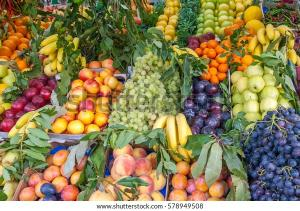apple: (248, 108, 300, 200), (228, 64, 298, 126), (1, 74, 56, 132), (195, 2, 248, 40), (151, 1, 190, 39)
banana: (246, 20, 300, 68), (36, 32, 86, 74)
grape: (114, 49, 180, 133)
orange: (186, 35, 246, 89), (0, 18, 48, 68)
peach: (42, 66, 126, 134), (86, 147, 174, 205), (177, 149, 233, 203)
plum: (186, 73, 238, 142)
